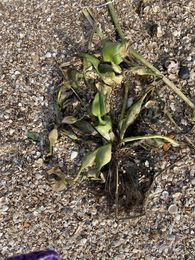water_hyacinth: (48, 31, 165, 213)
